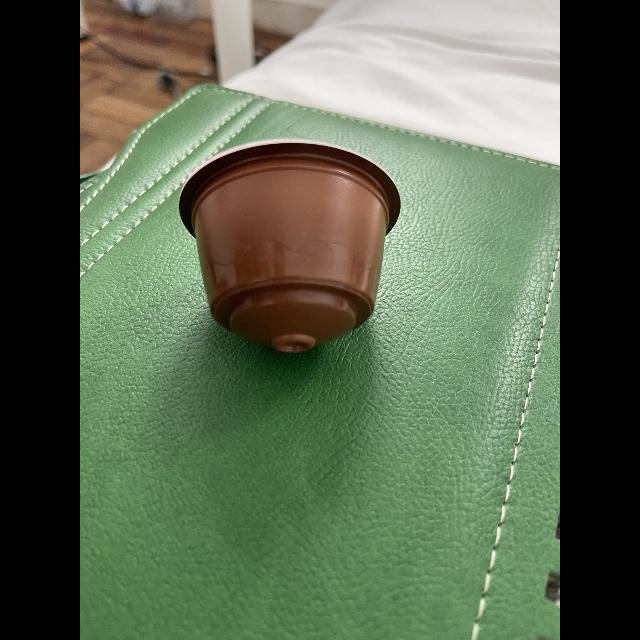intact_capsule: (170, 128, 414, 370)
